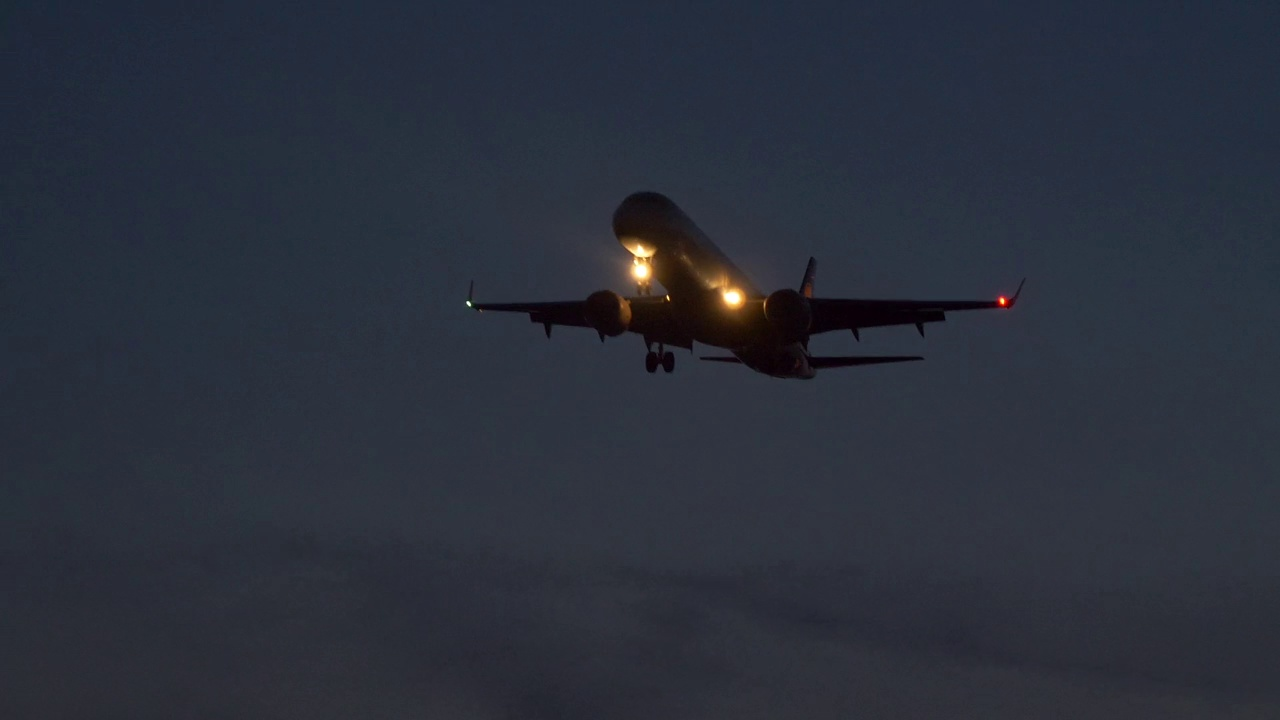plane: (464, 190, 1028, 381)
